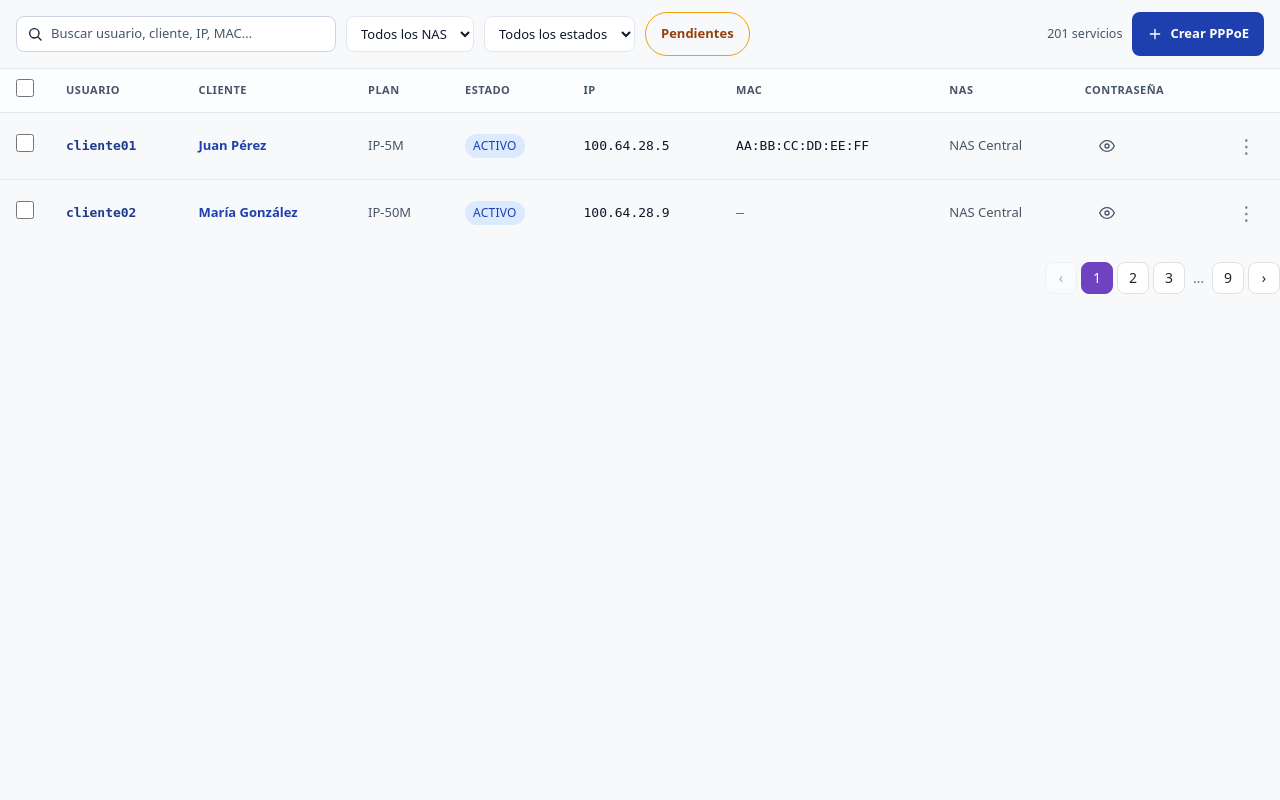
Test: PppoeManagementTab bulk — W1 REEMPLAZADO: 201 ya NO bloquea, se envía en lotes de 25 › ANTES bloqueaba con 201 seleccionados; AHORA "Cambiar plan" queda HABILITADO + aviso de 9 lotes de 25 + checkbox de confirmación
Select "NAS Central" in the dropdown named "filtrar por nas" at (410, 34), box [346,16,474,52]
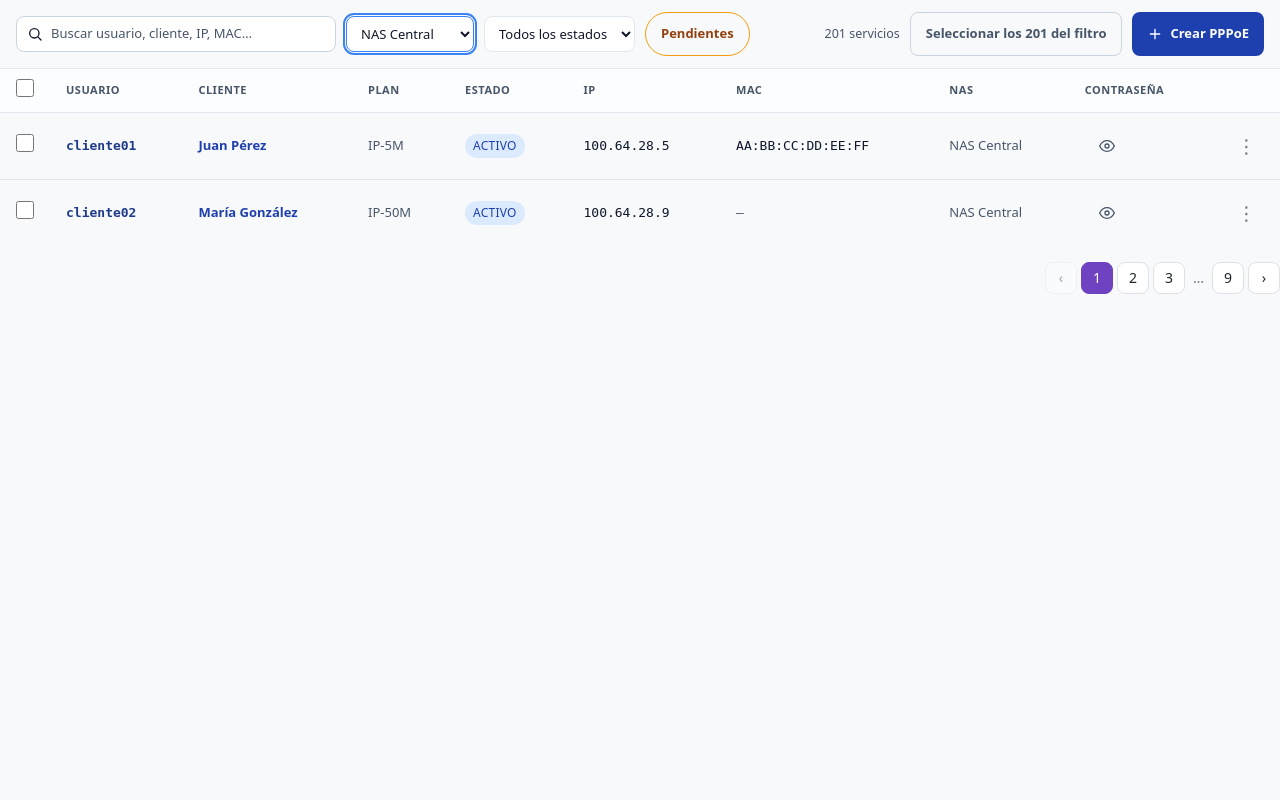
Click the button "Seleccionar los 201 del filtro" at (1016, 34), box [910,12,1122,56]
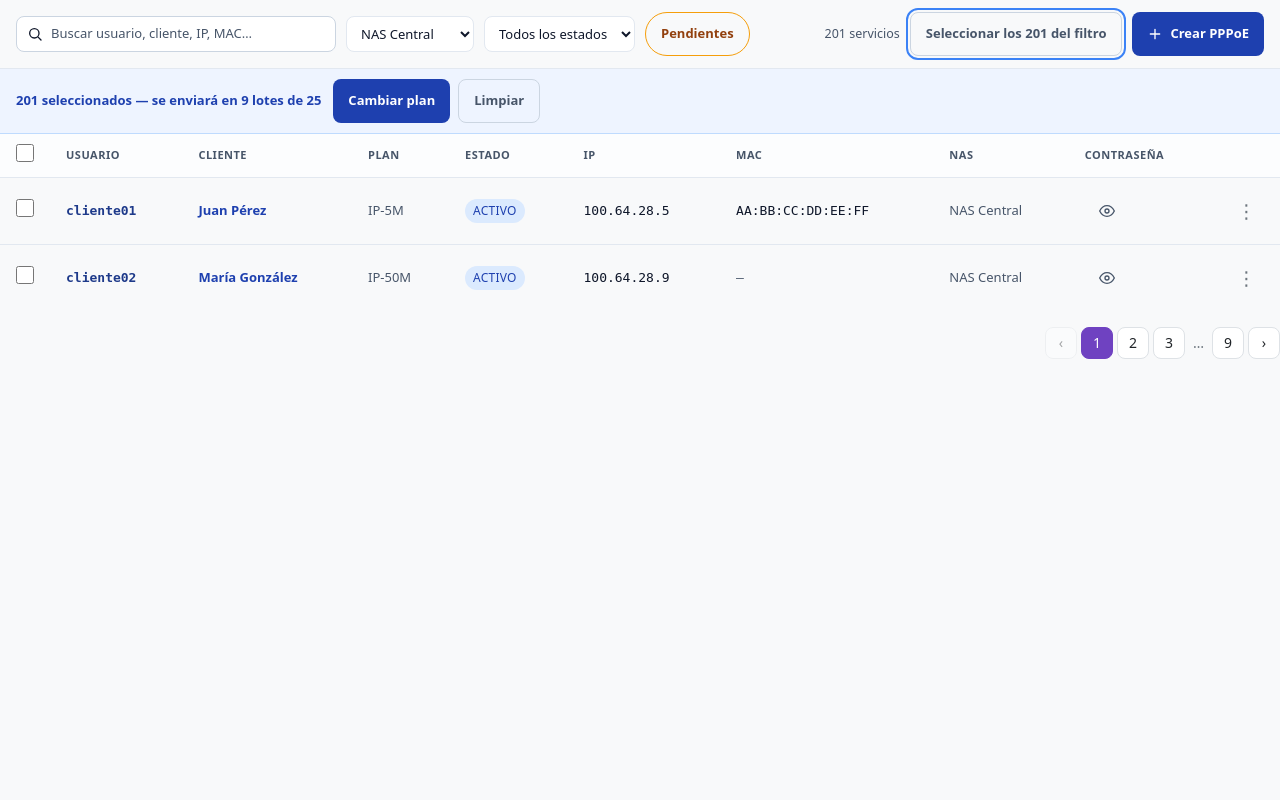
Expected: the text "201 seleccionados — se enviará en 9 lotes de 25" is shown, [16,91,321,111]
Click the button "Cambiar plan" at (392, 101), box [333,79,450,123]
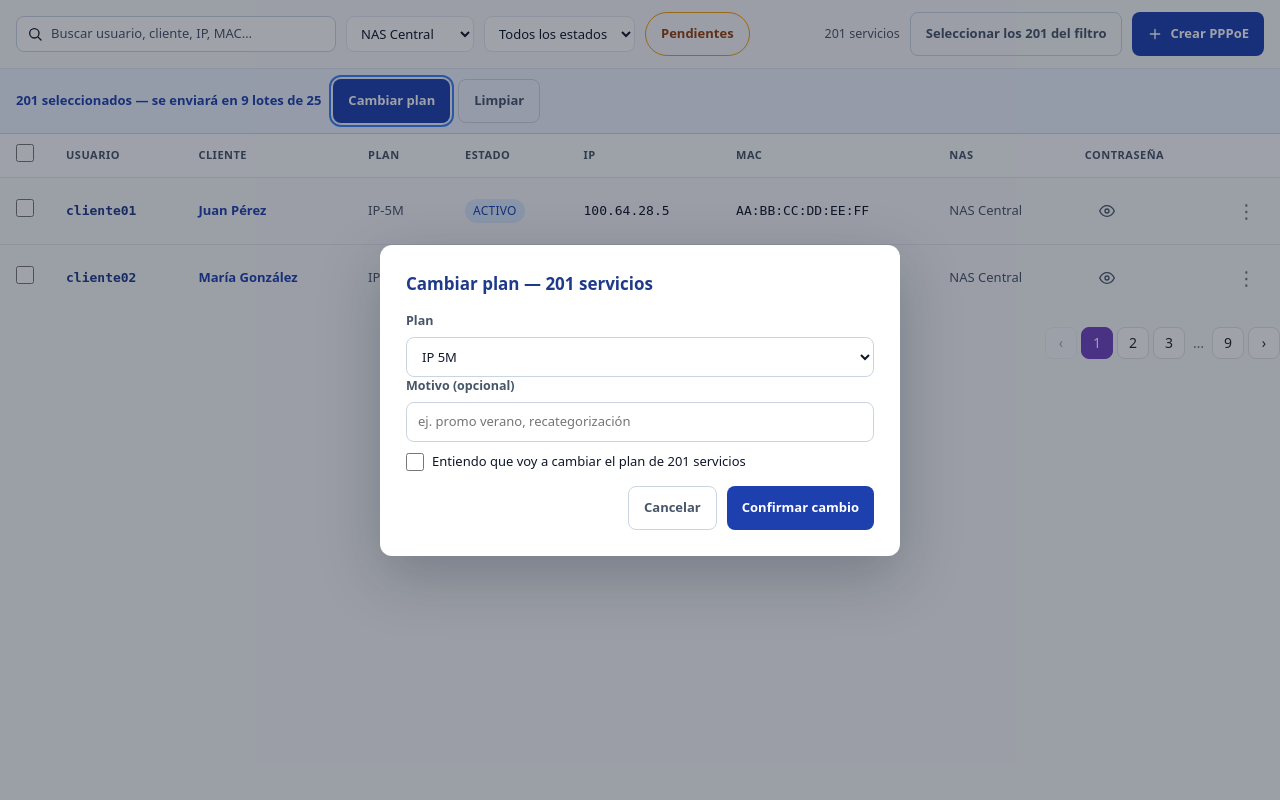
Expected: the dialog is shown, [380,244,900,556]
Expected: the checkbox labelled "Entiendo que voy a cambiar el plan de 201 servicios" is shown, [406,442,424,482]
